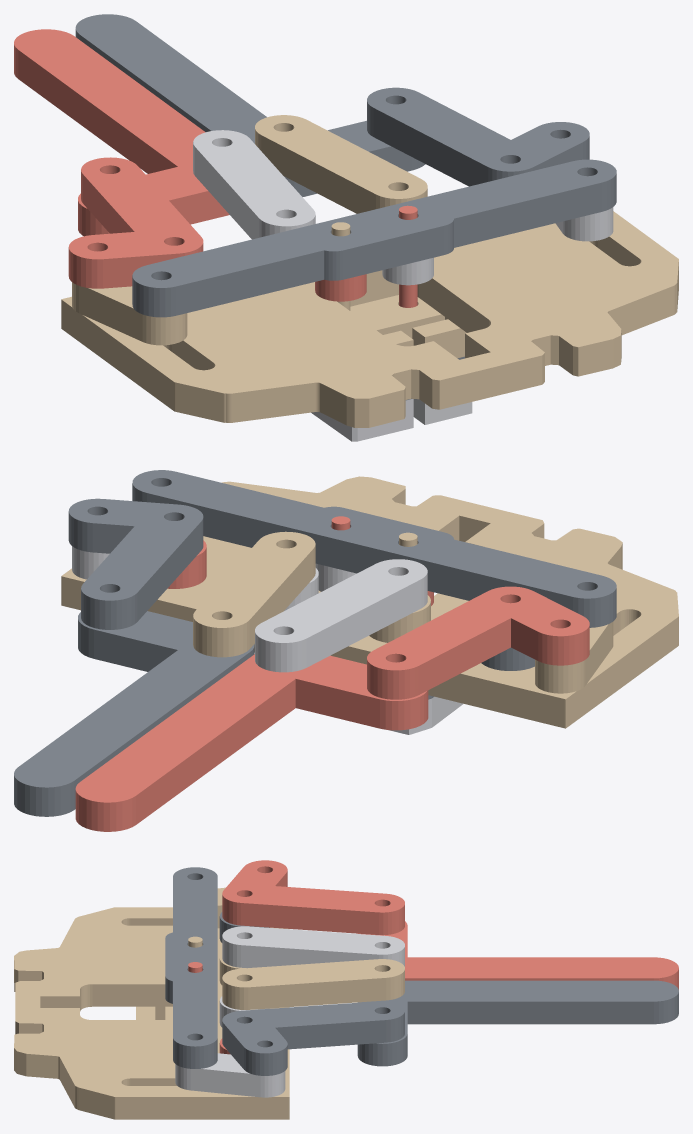
The model's file is garra.glb.
3 views of the same model, one above another, from view 1: azimuth 30°, elevation 25°; view 2: azimuth 150°, elevation 25°; view 3: azimuth 270°, elevation 25° (orthographic). The views are drawn at different scales.
Parts seen in each view (by area): view 1: NB_base_nova_garra_A_0, NB_carro_T_novo_13, A_dedo_7, A_elo_externo_alavanca_5, A_elo_externo_alavanca_11, A_dedo_1, A_elo_interno_4, A_elo_interno_10, A_biela_12, NB_bloco_embolo_(copia_outro_grupo)_16, NB_bloco_embolo_(copia_outro_grupo)_18, A_biela_6 (+3 smaller); view 2: NB_base_nova_garra_A_0, A_dedo_7, NB_carro_T_novo_13, A_dedo_1, A_elo_externo_alavanca_11, A_elo_externo_alavanca_5, A_elo_interno_10, A_elo_interno_4, A_biela_12, A_espacador_8, NB_bloco_embolo_(copia_outro_grupo)_18, A_espacador_3 (+3 smaller); view 3: NB_base_nova_garra_A_0, A_dedo_1, NB_carro_T_novo_13, A_elo_externo_alavanca_11, A_elo_externo_alavanca_5, A_elo_interno_4, A_dedo_7, A_elo_interno_10, A_biela_6, NB_bloco_embolo_(copia_outro_grupo)_16.
Part boxes in pixels (box(x1,y1,x2,y2)): NB_base_nova_garra_A_0: box(61, 211, 678, 427); NB_carro_T_novo_13: box(132, 159, 616, 317); A_dedo_7: box(14, 29, 229, 236); A_elo_externo_alavanca_5: box(367, 87, 589, 186); A_elo_externo_alavanca_11: box(68, 157, 203, 288); A_dedo_1: box(75, 14, 425, 196); A_elo_interno_4: box(255, 115, 427, 213); A_elo_interno_10: box(193, 130, 315, 239); A_biela_12: box(72, 282, 187, 345); NB_bloco_embolo_(copia_outro_grupo)_16: box(350, 295, 466, 358); NB_bloco_embolo_(copia_outro_grupo)_18: box(311, 399, 472, 441); A_biela_6: box(555, 207, 613, 241); NB_base_nova_garra_A_0: box(61, 476, 678, 728); A_dedo_7: box(75, 654, 428, 831); NB_carro_T_novo_13: box(132, 470, 616, 627); A_dedo_1: box(14, 611, 254, 816); A_elo_externo_alavanca_11: box(367, 586, 589, 699); A_elo_externo_alavanca_5: box(68, 498, 203, 629); A_elo_interno_10: box(255, 559, 427, 672); A_elo_interno_4: box(193, 531, 315, 657); A_biela_12: box(535, 622, 613, 693); A_espacador_8: box(369, 595, 430, 642); NB_bloco_embolo_(copia_outro_grupo)_18: box(388, 696, 463, 734); A_espacador_3: box(167, 540, 206, 588); NB_base_nova_garra_A_0: box(14, 907, 289, 1119); A_dedo_1: box(357, 980, 678, 1066); NB_carro_T_novo_13: box(165, 867, 217, 1068); A_elo_externo_alavanca_11: box(222, 860, 404, 935); A_elo_externo_alavanca_5: box(222, 1001, 404, 1075); A_elo_interno_4: box(222, 959, 404, 1009); A_dedo_7: box(358, 921, 678, 989); A_elo_interno_10: box(222, 926, 404, 968); A_biela_6: box(175, 1053, 285, 1097); NB_bloco_embolo_(copia_outro_grupo)_16: box(136, 1006, 172, 1019).
Bounding box in the file's own units: 0.0915 × 0.032 × 0.1332.
